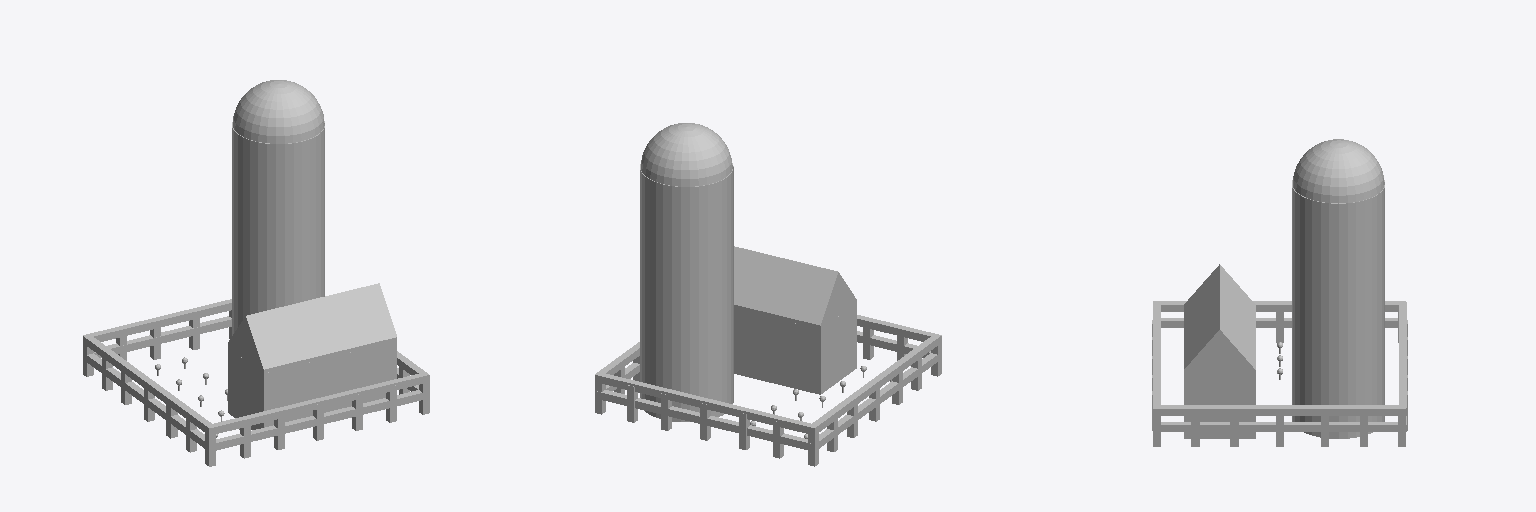
Rendered from farm.obj.
3 views of the same model, side by side, from view 1: azimuth 30°, elevation 25°; view 2: azimuth 150°, elevation 25°; view 3: azimuth 270°, elevation 25° (orthographic).
Parts seen in each view (by area): view 1: Cube.036_Cube.039; view 2: Cube.036_Cube.039; view 3: Cube.036_Cube.039.
Part boxes in pixels (x1,y1,x2,y2): Cube.036_Cube.039: (83, 80, 429, 466); Cube.036_Cube.039: (595, 123, 941, 466); Cube.036_Cube.039: (1152, 139, 1407, 446).
Bounding box in the file's own units: 0.9988 × 1.19 × 1.